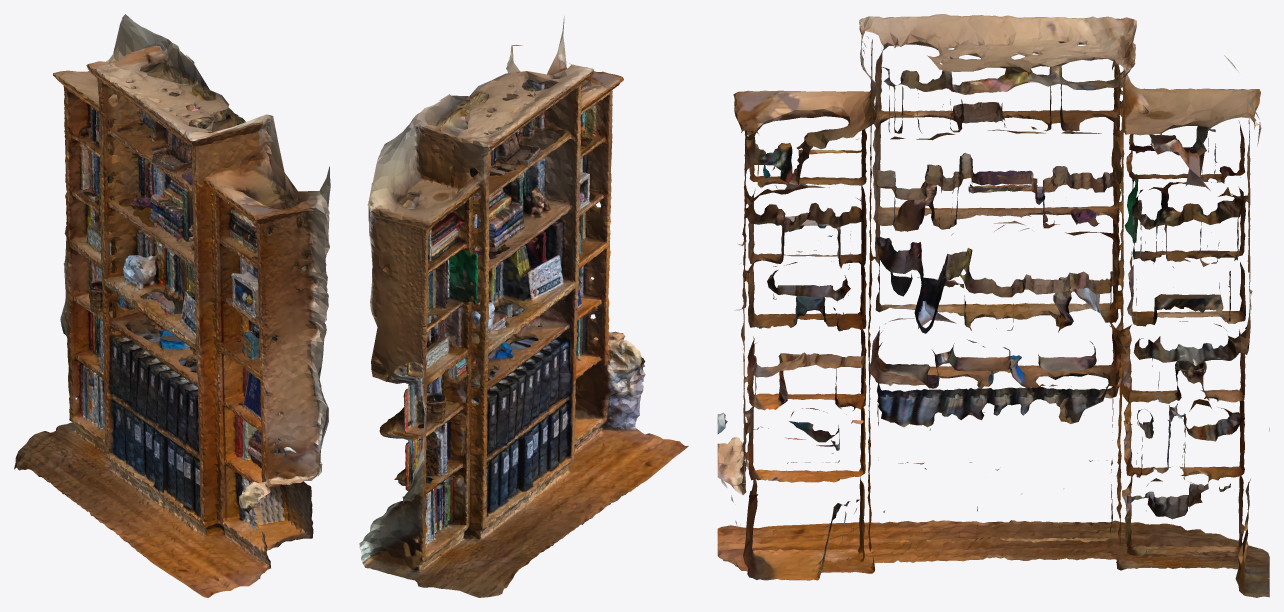
File: bookshelf.glb
The picture shows the model from 3 angles, left to right: view 1: azimuth 30°, elevation 25°; view 2: azimuth 150°, elevation 25°; view 3: azimuth 270°, elevation 25°; orthographic projection. The views are drawn at different scales.
Bounding box in the file's own units: 0.6633 × 2.04 × 1.82.
1 material, 1 textured.
